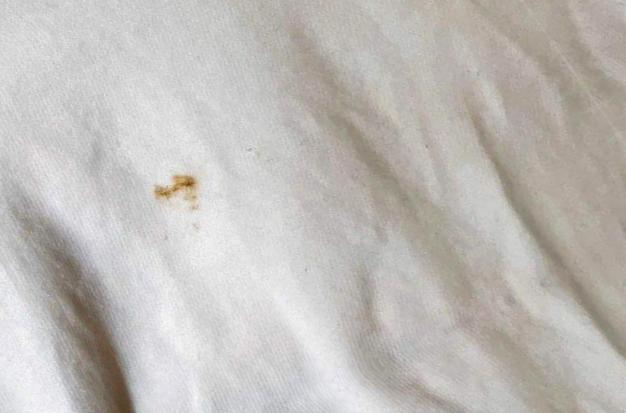stain: (155, 167, 212, 232)
